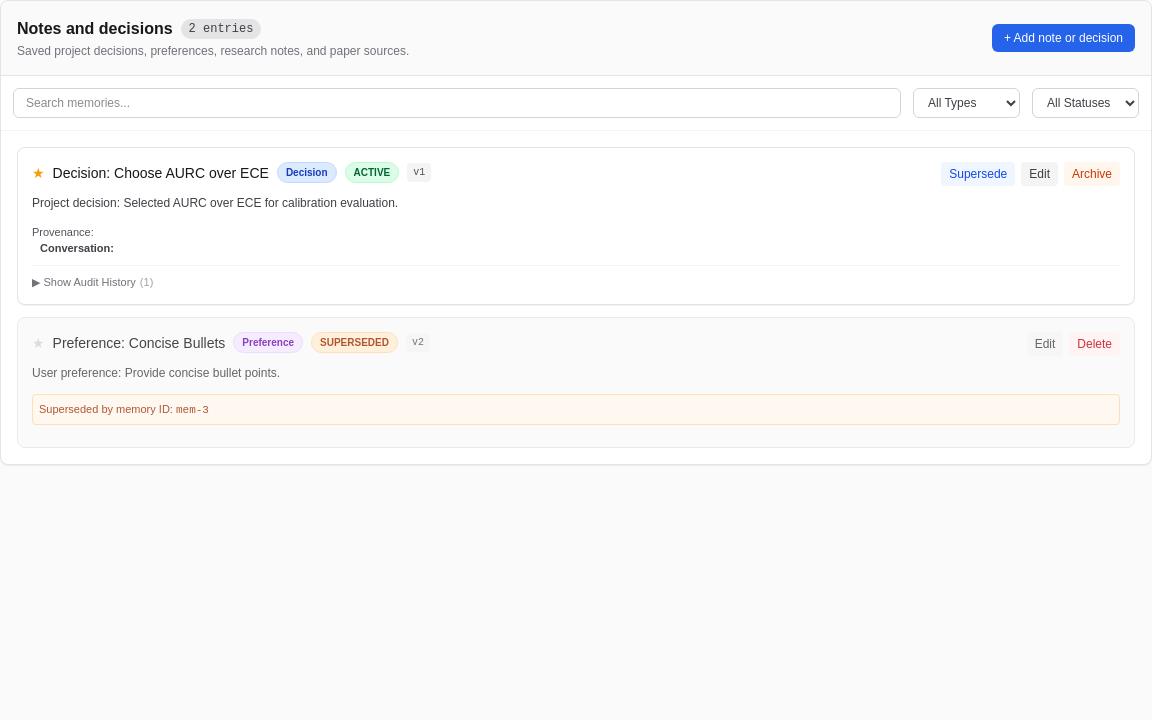
Test: MemoryInspector Component › displays stale edit warning on 409 conflict during edit
Check: the heading "Decision: Choose AURC over ECE" is shown, box x1=53 y1=162 x2=269 y2=182
Note: Click Edit button for active memory
Click the button "Edit" in the row of "ACTIVE" at (1040, 174), box x1=1021 y1=162 x2=1058 y2=186
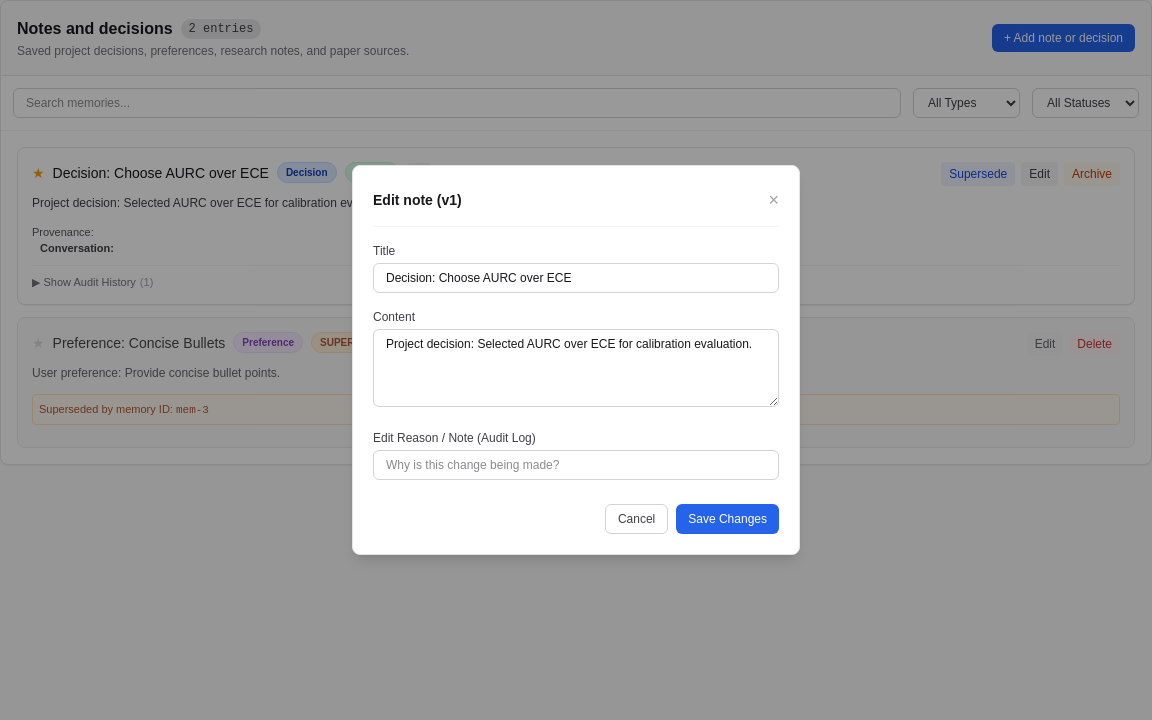
Check: the heading "Edit note (v1)" is shown, box x1=373 y1=190 x2=462 y2=210
Note: Submit edit
Click the button "Save Changes" at (728, 519), box x1=676 y1=504 x2=779 y2=534
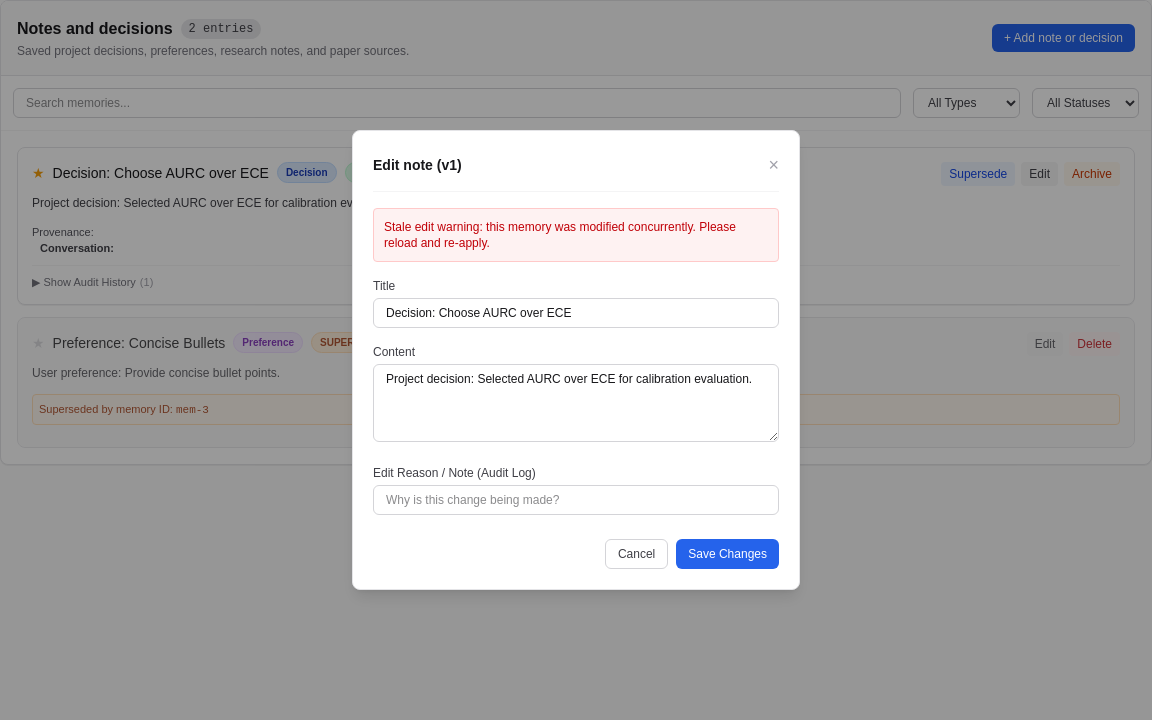
Check: the text "Stale edit warning: this memory was modified concurrently" is shown, box x1=384 y1=220 x2=736 y2=250
